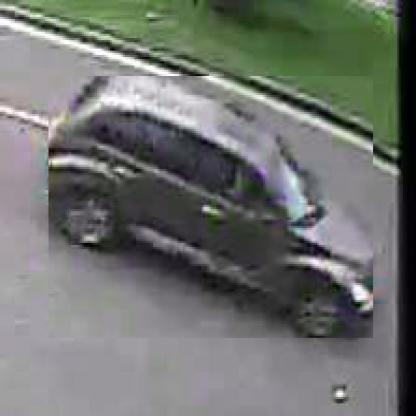car: (49, 77, 376, 341)
